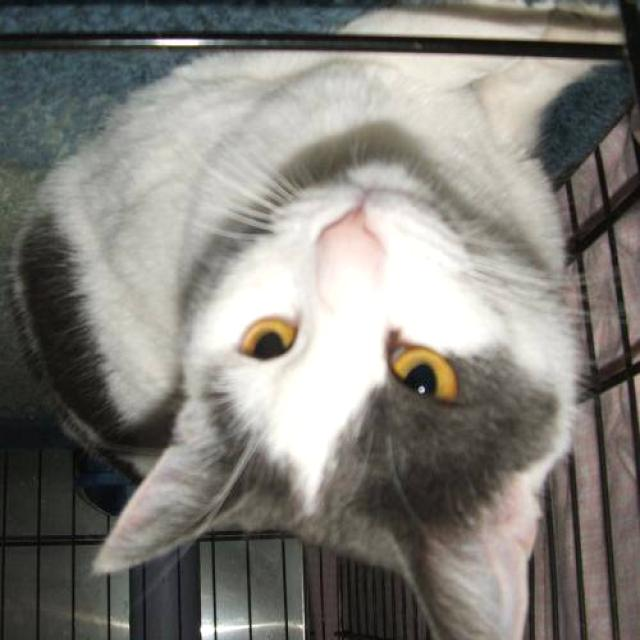Kucing: (45, 9, 626, 634)
